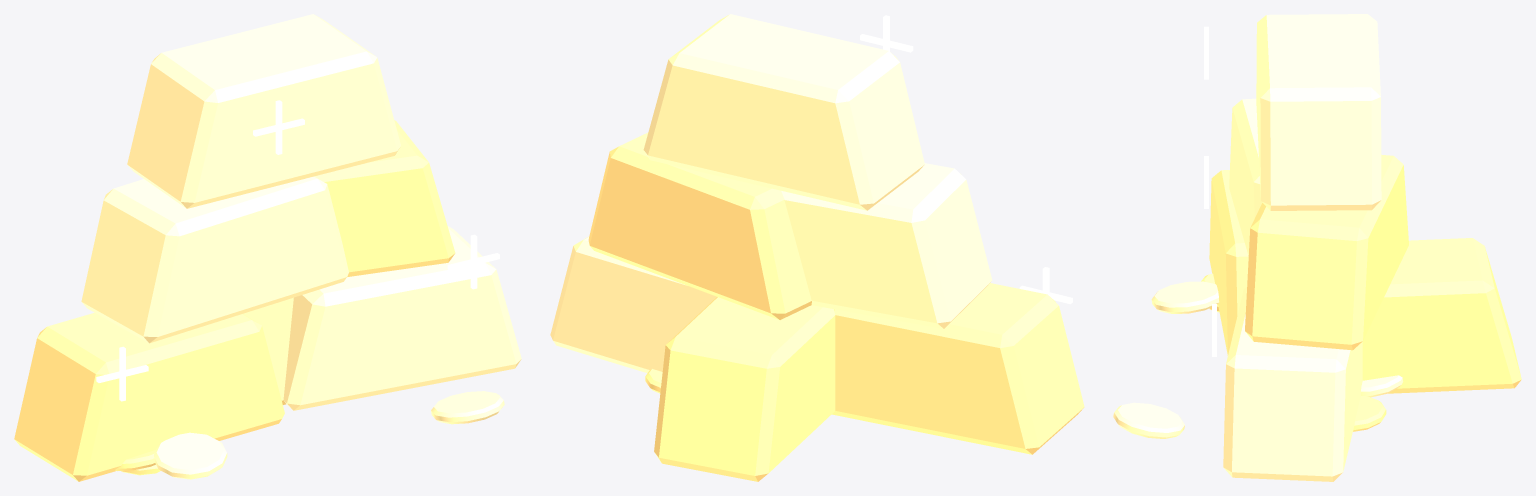
Rendered from gold.glb.
3 renders of one model, left to right at view 1: azimuth 30°, elevation 25°; view 2: azimuth 150°, elevation 25°; view 3: azimuth 270°, elevation 25°, orthographic. The views are drawn at different scales.
Visible parts, largest first — view 1: gold; view 2: gold; view 3: gold.
Part boxes in pixels (x1,y1,x2,y2): gold: (14,14,521,481); gold: (550,14,1084,481); gold: (1113,14,1521,481).
Bounding box in the file's own units: 0.6639 × 0.4627 × 0.5085.
